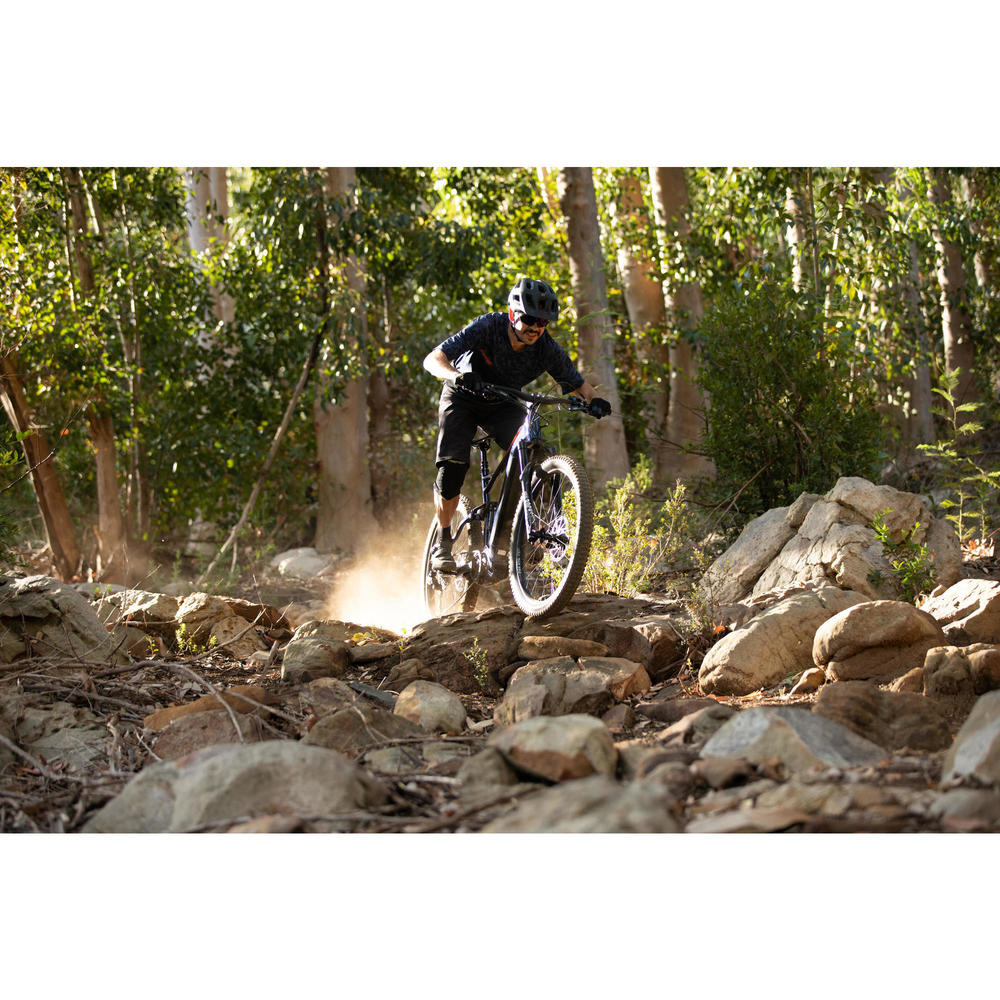MountainBike: (395, 376, 635, 629)
